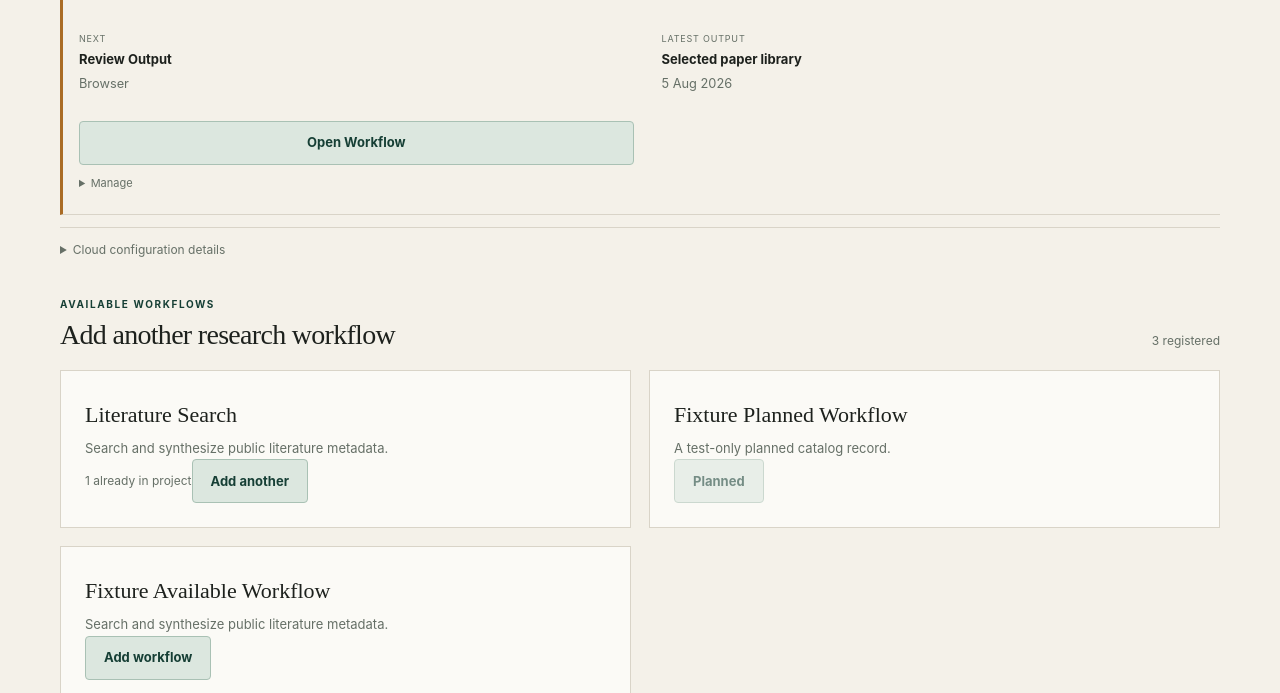
Test case: refreshes on Manifest revision conflict and never attempts a browser-local write
This screenshot has width=1280, height=693.
(page scrolled)
Click the button "Add workflow" at (148, 658), box [85,636,211,680]
(page scrolled)
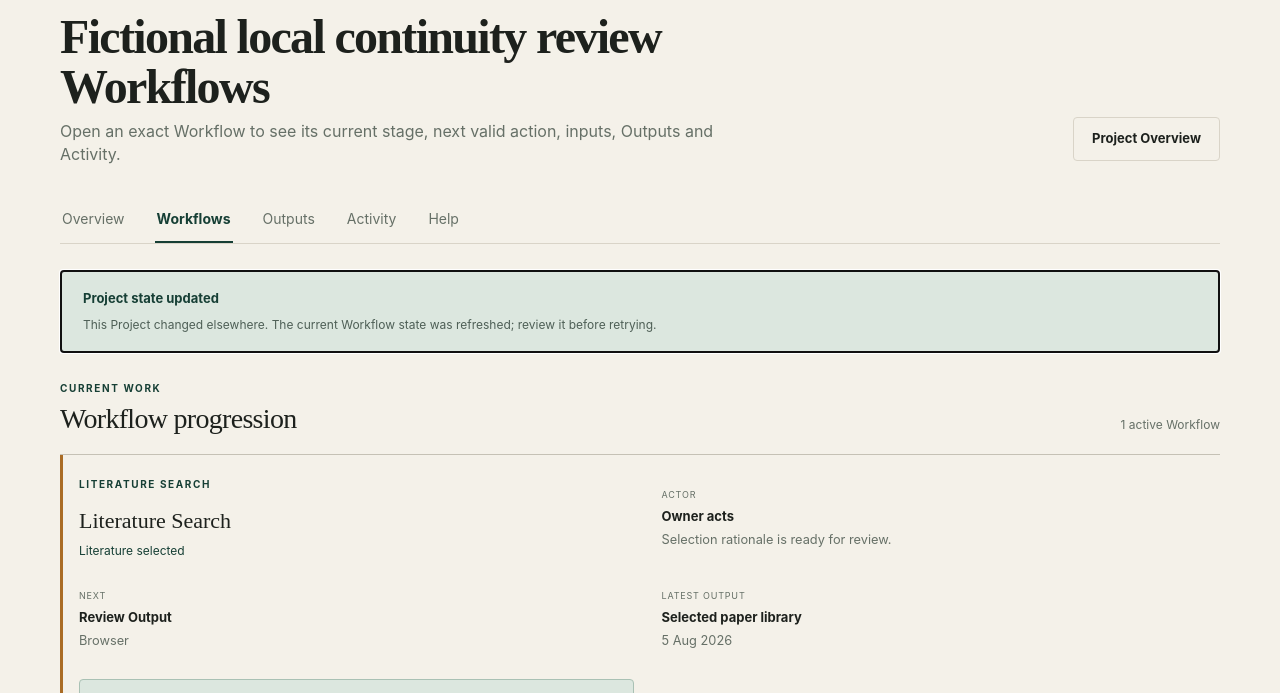
Now the text "Project changed elsewhere" is shown, box [83,317,656,332]
